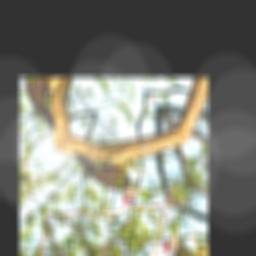Woodpecker: (68, 128, 151, 218)
